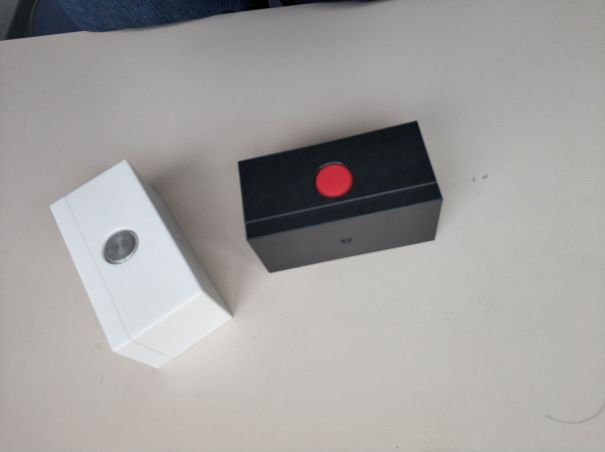black+black+red: (234, 118, 447, 278)
white+white+silver: (45, 156, 237, 376)
